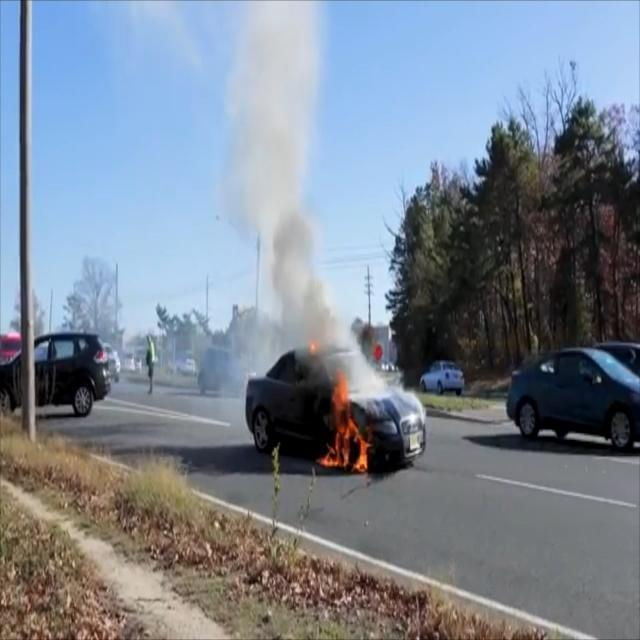fire: (309, 335, 371, 470)
